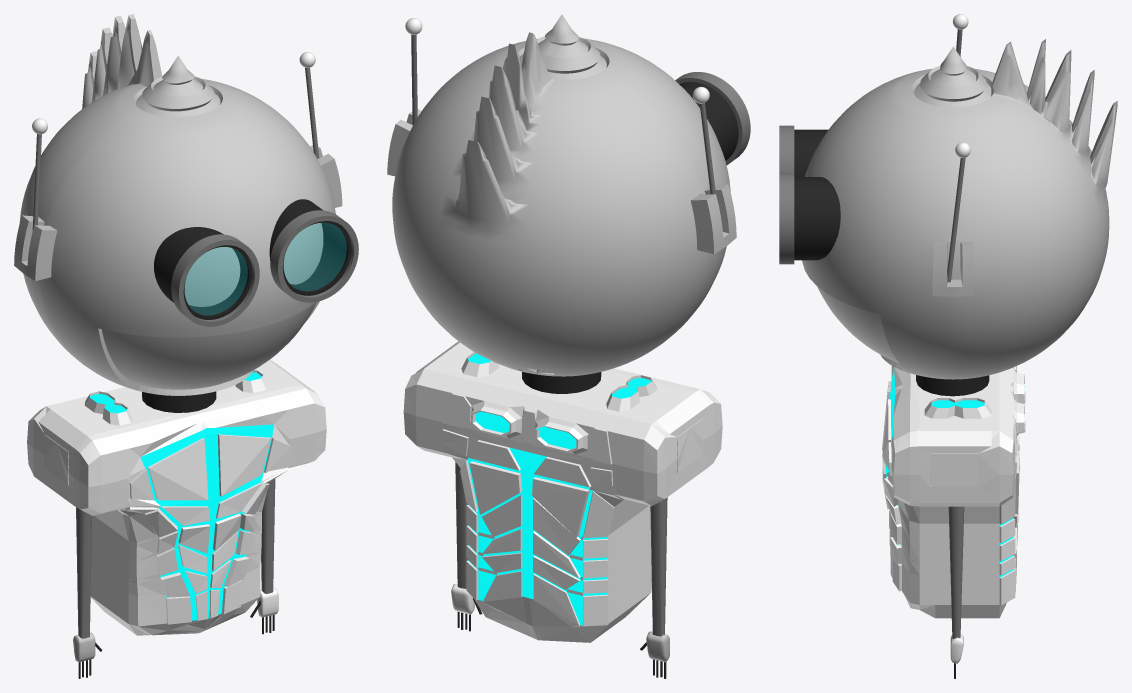
Rendered from Jasubot-Pro01.fbx.
3 renders of one model, left to right at view 1: azimuth 30°, elevation 25°; view 2: azimuth 150°, elevation 25°; view 3: azimuth 270°, elevation 25°, orthographic. The views are drawn at different scales.
Parts seen in each view (by area): view 1: pSphere1, Torso, pCylinder2, pCylinder1, pPipe1, pPipe3, pPipe4, pPipe2, Braso_2, Braso_1, Cuello, pCube2 (+1 smaller); view 2: pSphere1, Torso, Braso_2, pPipe1, pPipe2, Cuello, Braso_1, pCube2, pCylinder4; view 3: pSphere1, Torso, pPipe3, Braso_1, pPipe4, Cuello, pPipe1, pPipe2, pCylinder3.
Boxes of the visible parts, box(x1,y1,x2,y2) form: pSphere1: box(14, 14, 342, 395); Torso: box(27, 359, 326, 635); pCylinder2: box(284, 223, 346, 290); pCylinder1: box(185, 247, 247, 314); pPipe1: box(154, 227, 252, 319); pPipe3: box(269, 199, 351, 295); pPipe4: box(270, 210, 358, 302); pPipe2: box(171, 234, 259, 326); Braso_2: box(76, 507, 91, 638); Braso_1: box(261, 479, 275, 593); Cuello: box(142, 391, 216, 412); pCube2: box(73, 632, 95, 662); pSphere1: box(387, 14, 736, 376); Torso: box(403, 341, 722, 642); Braso_2: box(650, 497, 667, 636); pPipe1: box(679, 82, 738, 160); pPipe2: box(675, 72, 750, 165); Cuello: box(522, 371, 601, 393); Braso_1: box(455, 462, 468, 588); pCube2: box(646, 631, 669, 662); pCylinder4: box(699, 103, 715, 194); pSphere1: box(802, 39, 1117, 379); Torso: box(882, 366, 1025, 618); pPipe3: box(794, 177, 840, 260); Braso_1: box(948, 506, 964, 638); pPipe4: box(779, 173, 794, 264); Cuello: box(916, 375, 989, 396); pPipe1: box(794, 129, 827, 176); pPipe2: box(779, 125, 794, 172); pCylinder3: box(947, 157, 965, 282).
Bounding box in the file's own units: 352 × 660 × 341.
